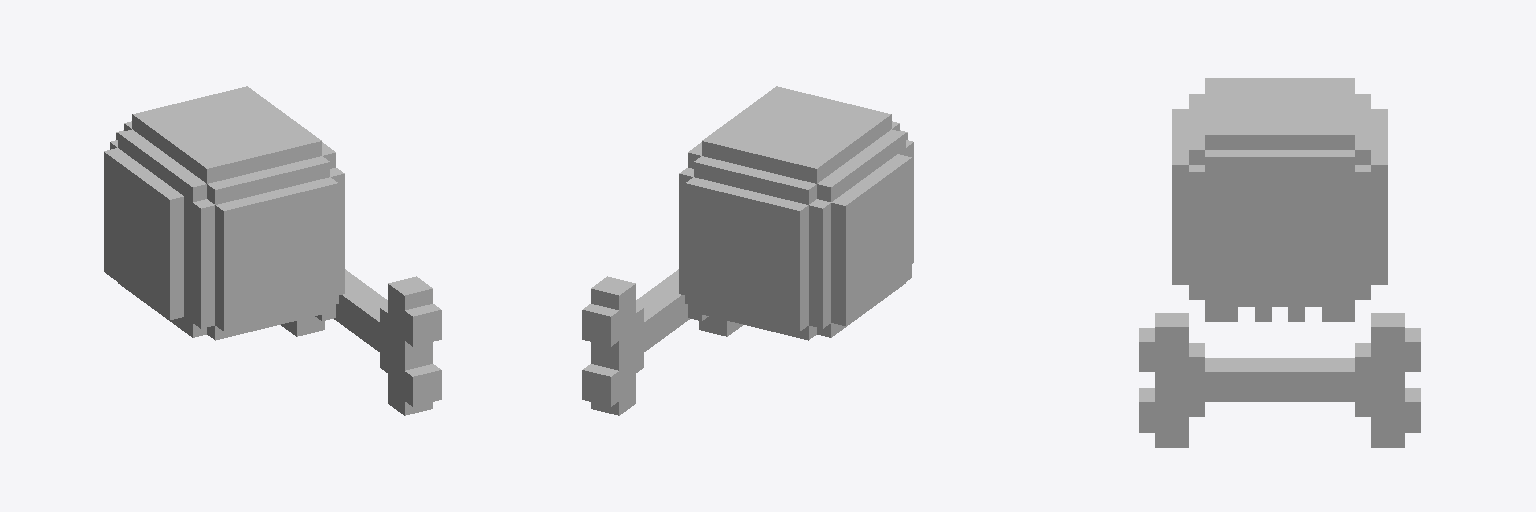
Rendered from Package 01 Necro Dungeon-32.obj.
3 views of the same model, side by side, from view 1: azimuth 30°, elevation 25°; view 2: azimuth 150°, elevation 25°; view 3: azimuth 270°, elevation 25° (orthographic).
Parts seen in each view (by area): view 1: object 1; view 2: object 1; view 3: object 1.
Boxes of the visible parts, box(x1,y1,x2,y2) form: object 1: box(104, 86, 441, 415); object 1: box(582, 86, 913, 415); object 1: box(1139, 78, 1420, 447).
Bounding box in the file's own units: 1.6 × 1.8 × 1.7.